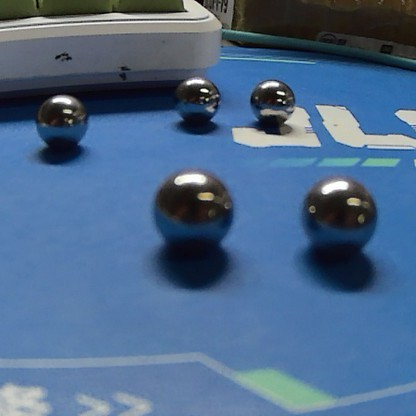ironball: (149, 153, 247, 254), (293, 174, 372, 260), (160, 60, 231, 132), (34, 76, 100, 153), (243, 74, 297, 129)
